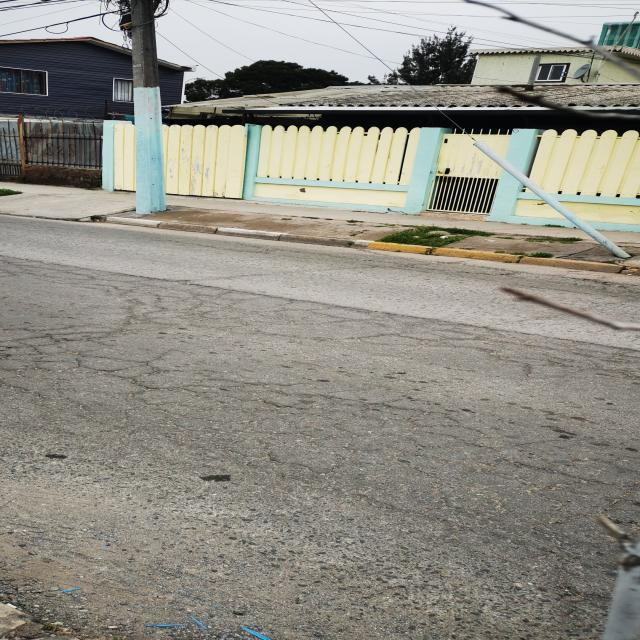PIEL DE COCODRILO: (1, 254, 639, 593)
